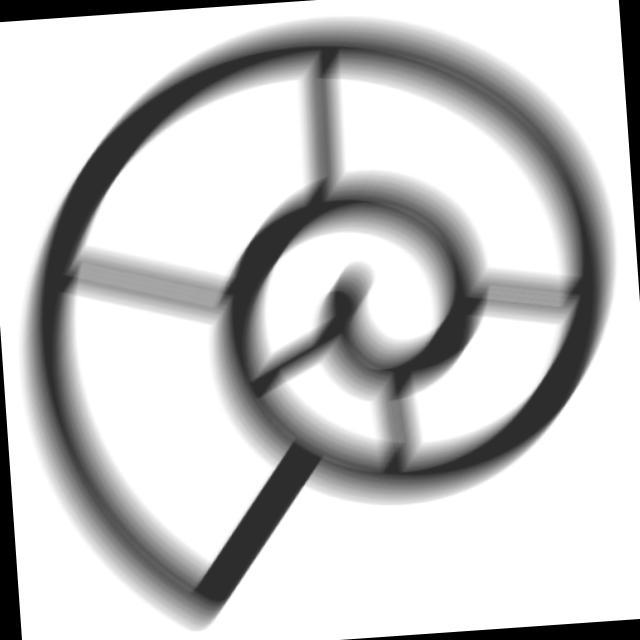fossil: (1, 1, 640, 639)
